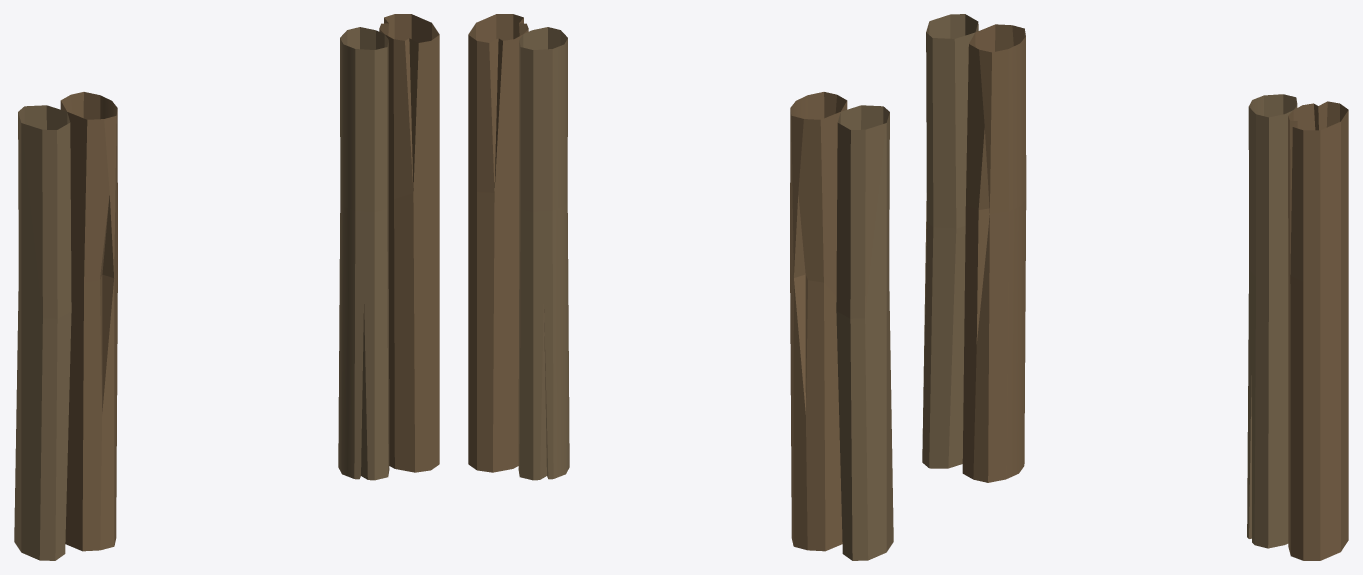
The model's file is rpgpp_ag_wall_02_3x3_door_a.fbx.
3 renders of one model, left to right at view 1: azimuth 30°, elevation 25°; view 2: azimuth 150°, elevation 25°; view 3: azimuth 330°, elevation 25°, orthographic.
Parts seen in each view (by area): view 1: rpgpp_ag_wall_02_3x3_door_a; view 2: rpgpp_ag_wall_02_3x3_door_a; view 3: rpgpp_ag_wall_02_3x3_door_a.
Boxes of the visible parts, <box> form: rpgpp_ag_wall_02_3x3_door_a: <box>14,14,439,560</box>; rpgpp_ag_wall_02_3x3_door_a: <box>468,14,893,560</box>; rpgpp_ag_wall_02_3x3_door_a: <box>922,14,1348,560</box>.
Size of the model in its own units: 3 by 3 by 0.4626.
